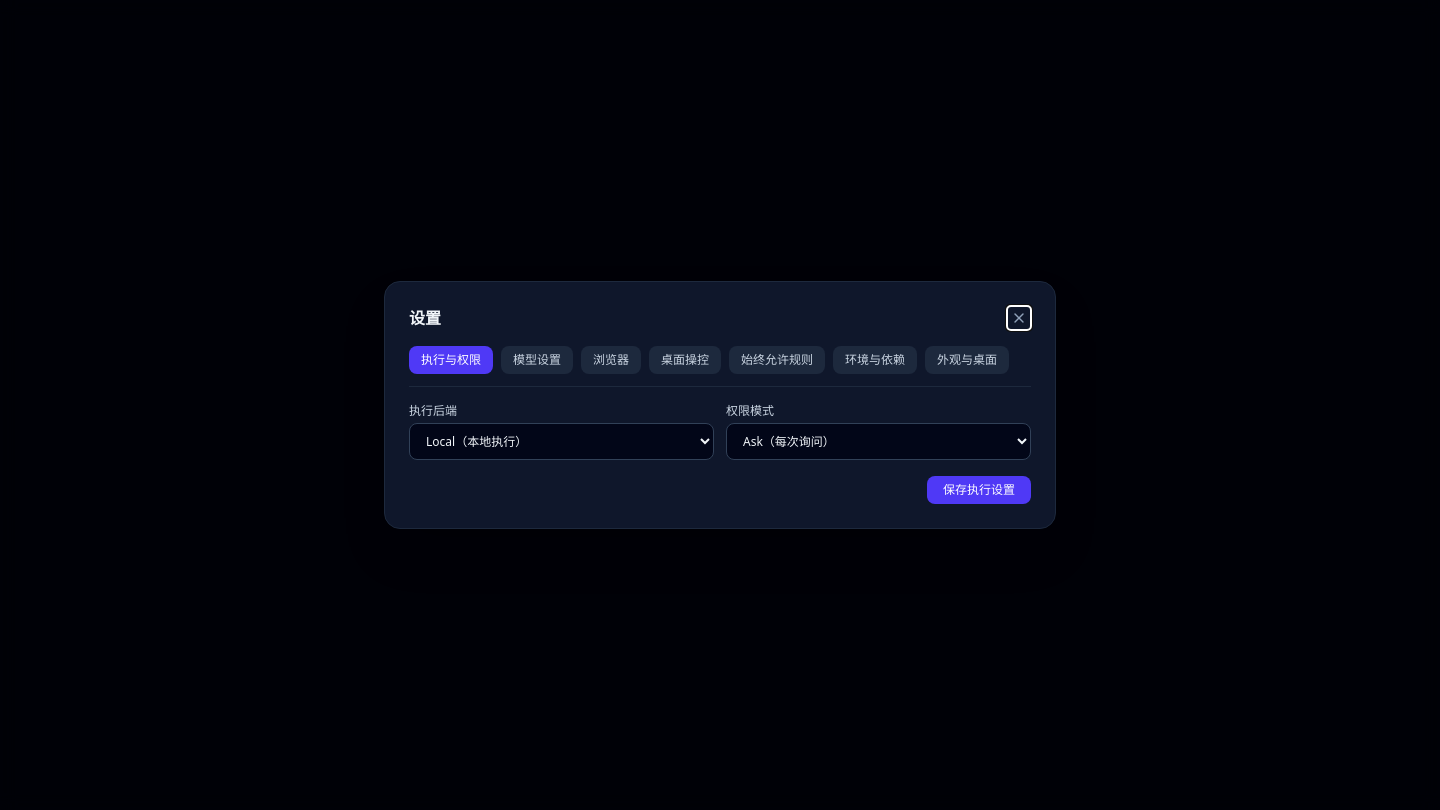
Test: Security boundary & MVP interactive cards › auto-updates multimodal checkbox when SettingsModal save probe returns supportsMultimodal=true
Click the button "模型设置" at (537, 360), box x1=501 y1=346 x2=573 y2=374
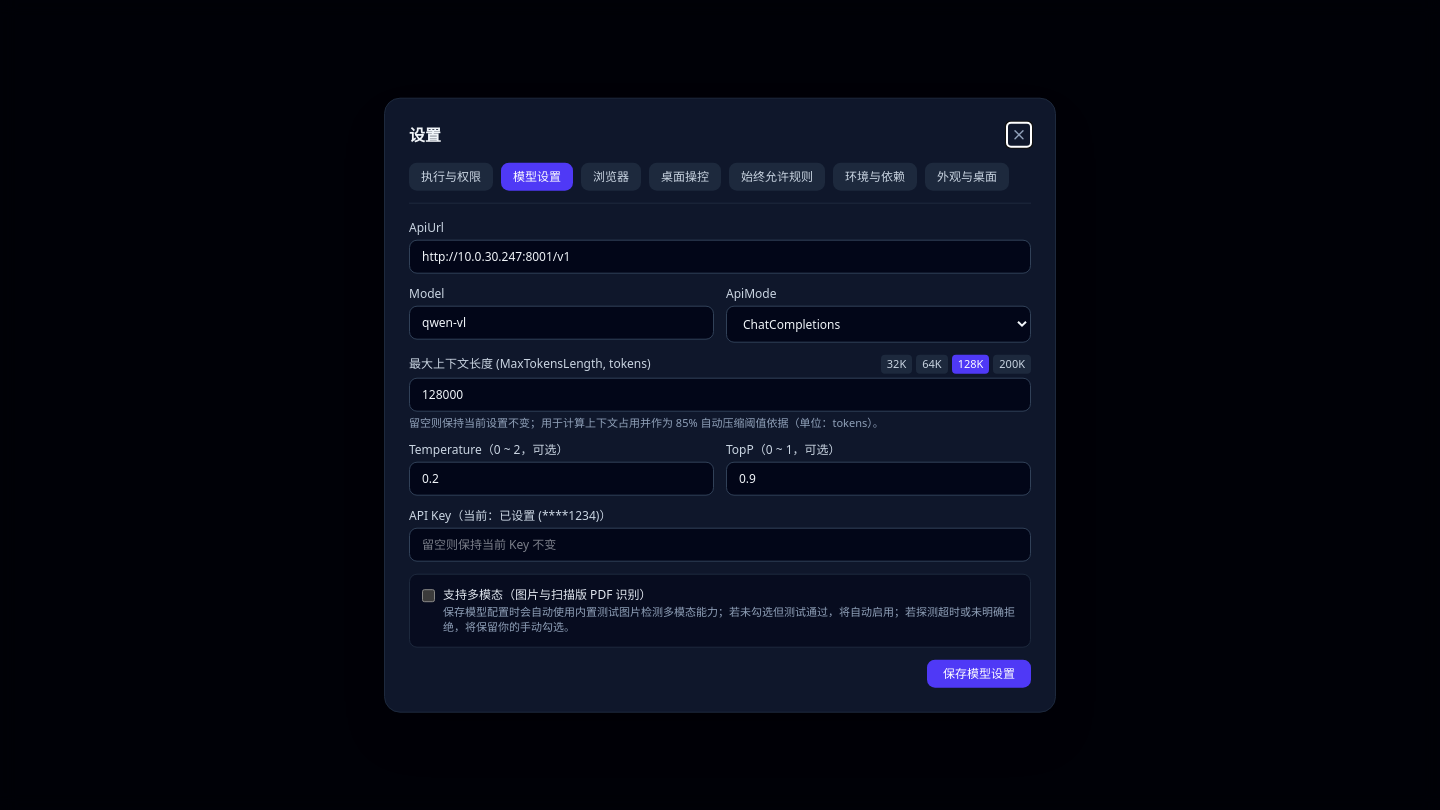
Now the checkbox is not checked, box x1=422 y1=589 x2=435 y2=603
Click the button "保存模型设置" at (979, 673), box x1=927 y1=659 x2=1031 y2=687
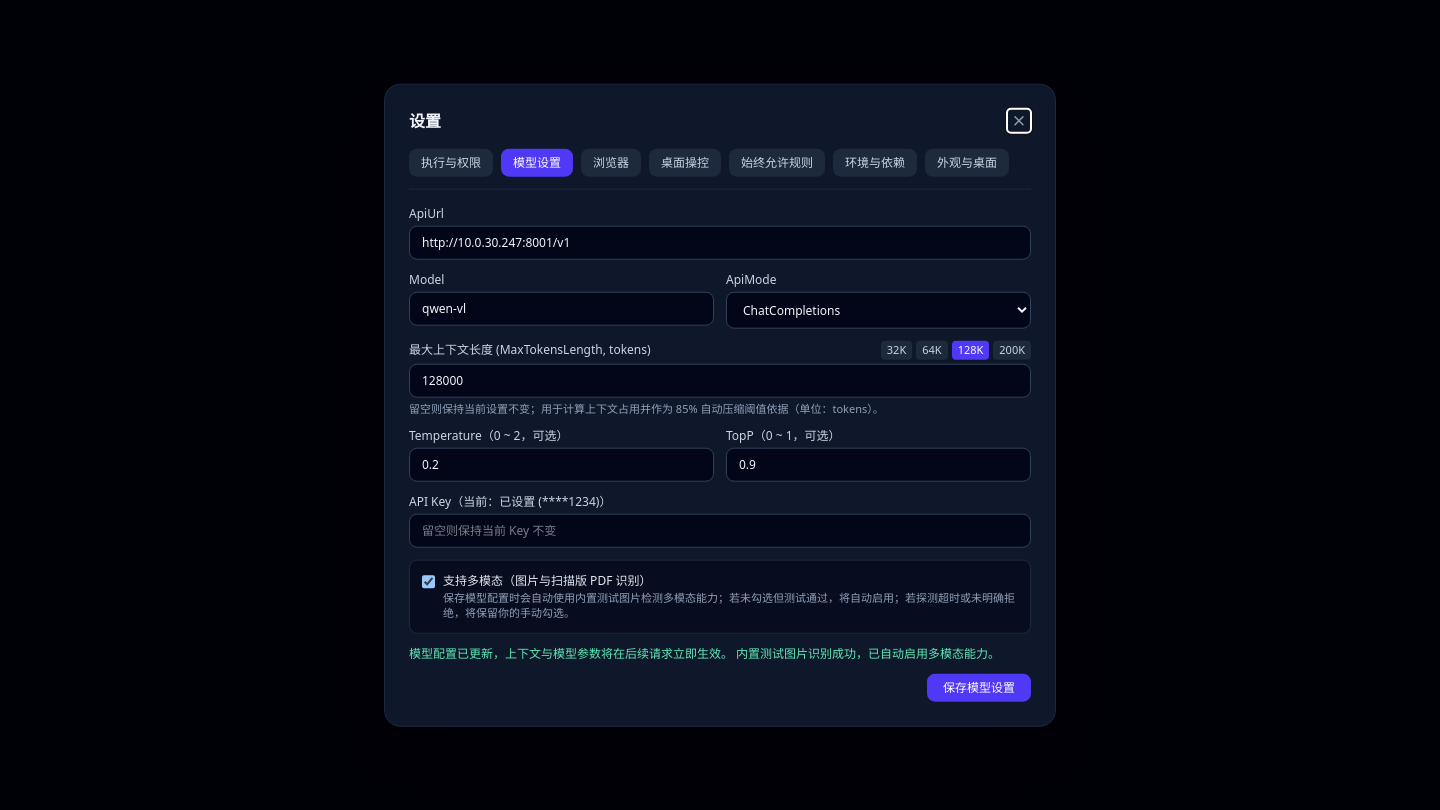
Now the checkbox is checked, box x1=422 y1=575 x2=435 y2=589
Now the text "模型配置已更新，上下文与模型参数将在后续请求立即生效。 内置测试图片识别成功，已自动启用多模态能力。" is shown, box x1=409 y1=645 x2=1031 y2=661
